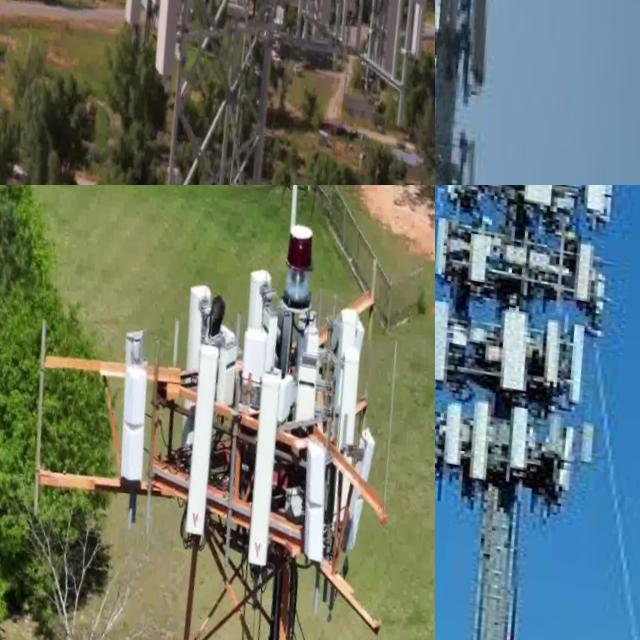GSM Antenna: (158, 332, 235, 551), (219, 360, 294, 578), (313, 298, 375, 439), (121, 0, 220, 87), (97, 357, 159, 492), (277, 438, 338, 574), (329, 418, 381, 571), (348, 0, 435, 89), (227, 257, 285, 364), (472, 297, 533, 392), (445, 0, 513, 81), (173, 278, 218, 369), (453, 394, 494, 482), (435, 295, 472, 390), (524, 311, 566, 393), (556, 320, 593, 407), (451, 220, 493, 292), (437, 126, 488, 185), (389, 0, 435, 65), (565, 236, 605, 300), (499, 402, 529, 479), (435, 399, 467, 467), (568, 420, 599, 467), (435, 209, 455, 280), (510, 185, 566, 210), (568, 185, 612, 215), (551, 424, 576, 472)
